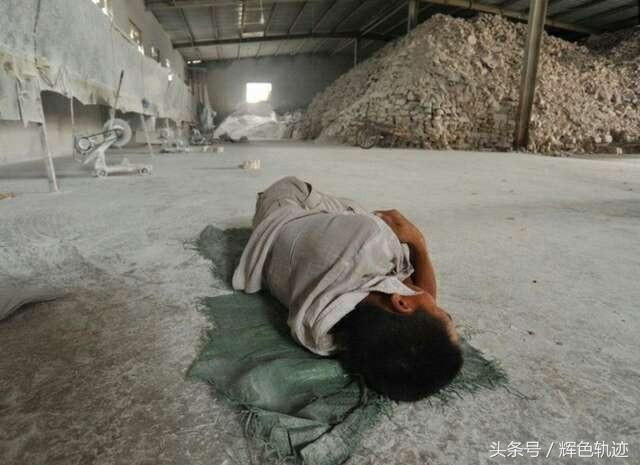Fall-Detected: (197, 167, 490, 399)
